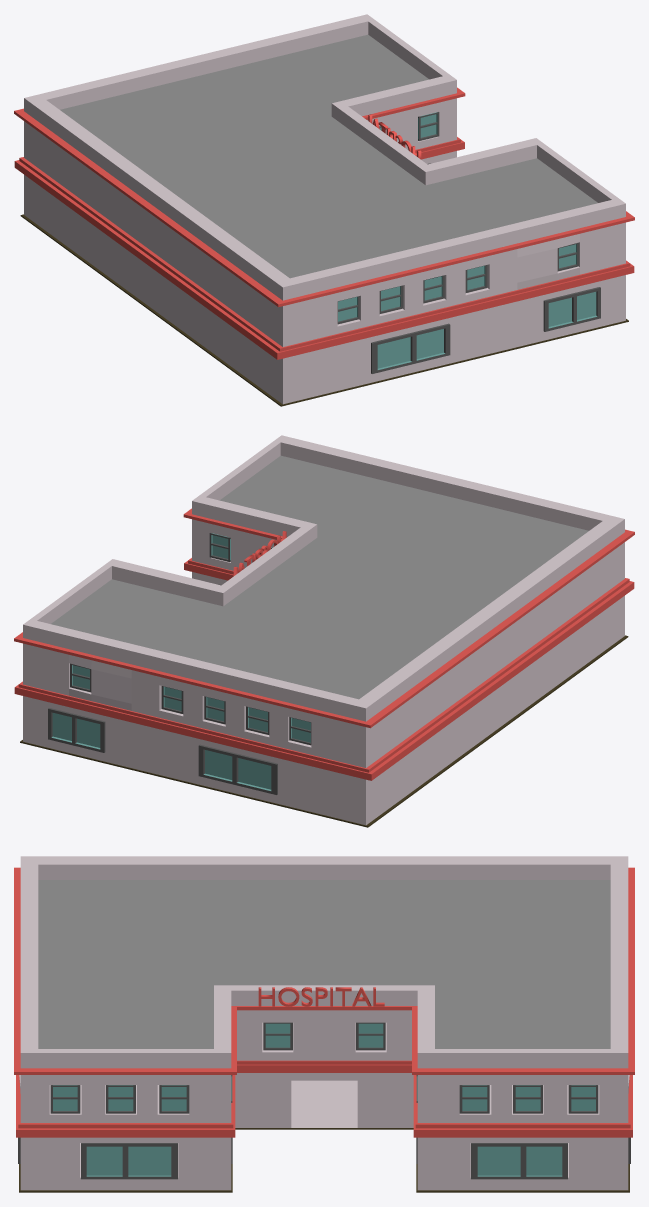
The model's file is hospital.fbx.
3 views of the same model, one above another, from view 1: azimuth 30°, elevation 25°; view 2: azimuth 150°, elevation 25°; view 3: azimuth 270°, elevation 25° (orthographic). The views are drawn at different scales.
Parts seen in each view (by area): view 1: Text, Hospital Second Floor, Hostpial First Floor; view 2: Text, Hospital Second Floor, Hostpial First Floor; view 3: Text, Hospital Second Floor, Hostpial First Floor.
Boxes of the visible parts, x1=… form: Text: x1=24, y1=14, x2=625, y2=300; Hospital Second Floor: x1=14, y1=87, x2=634, y2=351; Hostpial First Floor: x1=14, y1=140, x2=634, y2=406; Text: x1=23, y1=435, x2=624, y2=721; Hospital Second Floor: x1=14, y1=508, x2=634, y2=772; Hostpial First Floor: x1=14, y1=561, x2=634, y2=827; Text: x1=20, y1=856, x2=628, y2=1068; Hospital Second Floor: x1=14, y1=867, x2=634, y2=1128; Hostpial First Floor: x1=16, y1=1064, x2=632, y2=1192.
Bounding box in the file's own units: 61.67 × 20.18 × 79.18.
